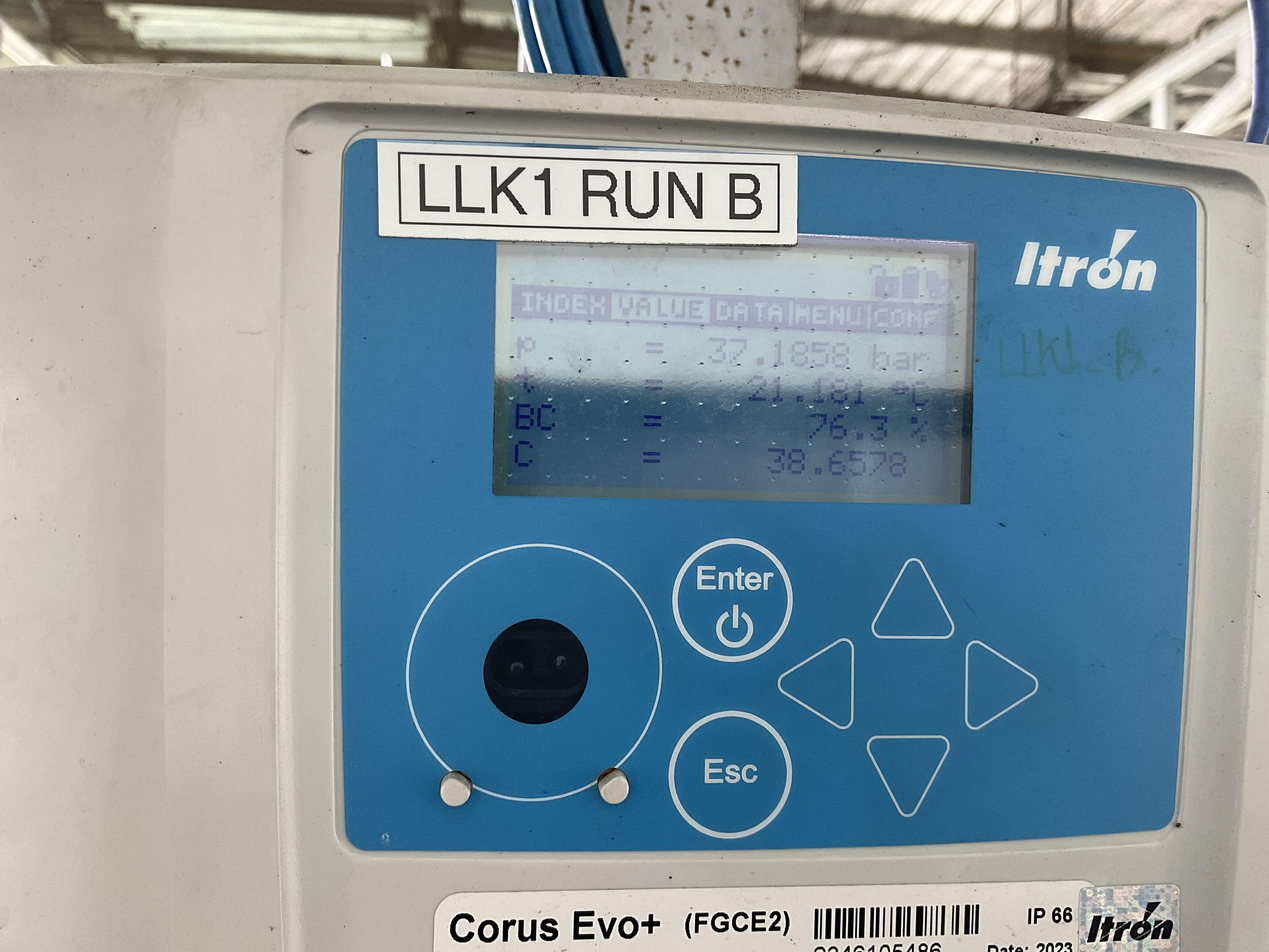digital_screen: (493, 223, 975, 502)
